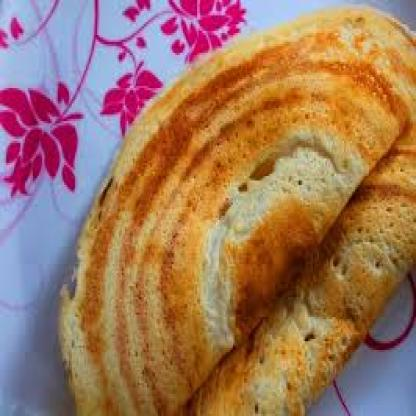dosa: (59, 6, 416, 416), (174, 107, 416, 416)
